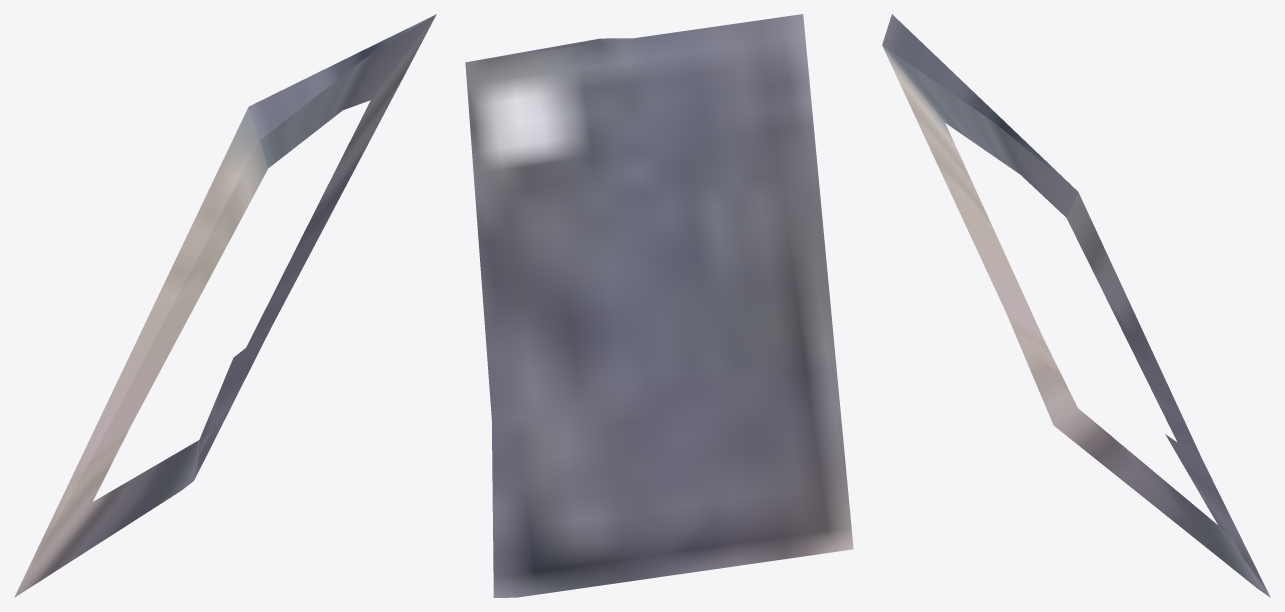
3 views of the same model, side by side, from view 1: azimuth 30°, elevation 25°; view 2: azimuth 150°, elevation 25°; view 3: azimuth 270°, elevation 25° (orthographic). The views are drawn at different scales.
Bounding box in the file's own units: 5.98 × 7.36 × 5.03.
1 material, 1 textured.
